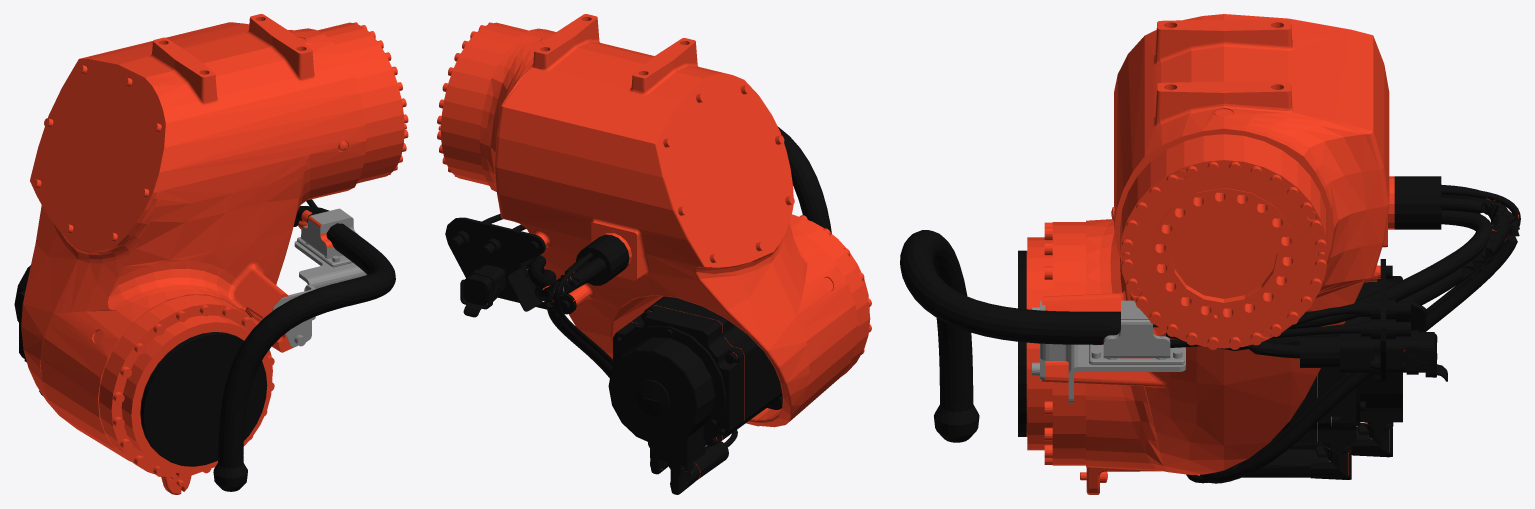
The picture shows the model from 3 angles, left to right: view 1: azimuth 30°, elevation 25°; view 2: azimuth 150°, elevation 25°; view 3: azimuth 270°, elevation 25°; orthographic projection. The views are drawn at different scales.
Parts seen in each view (by area): view 1: link_3; view 2: link_3; view 3: link_3.
Boxes of the visible parts, x1,y1,x2,y2 form: link_3: [14, 14, 408, 494]; link_3: [437, 14, 871, 494]; link_3: [900, 14, 1520, 494].
Size of the model in its own units: 0.3729 by 0.4656 by 0.4177.
